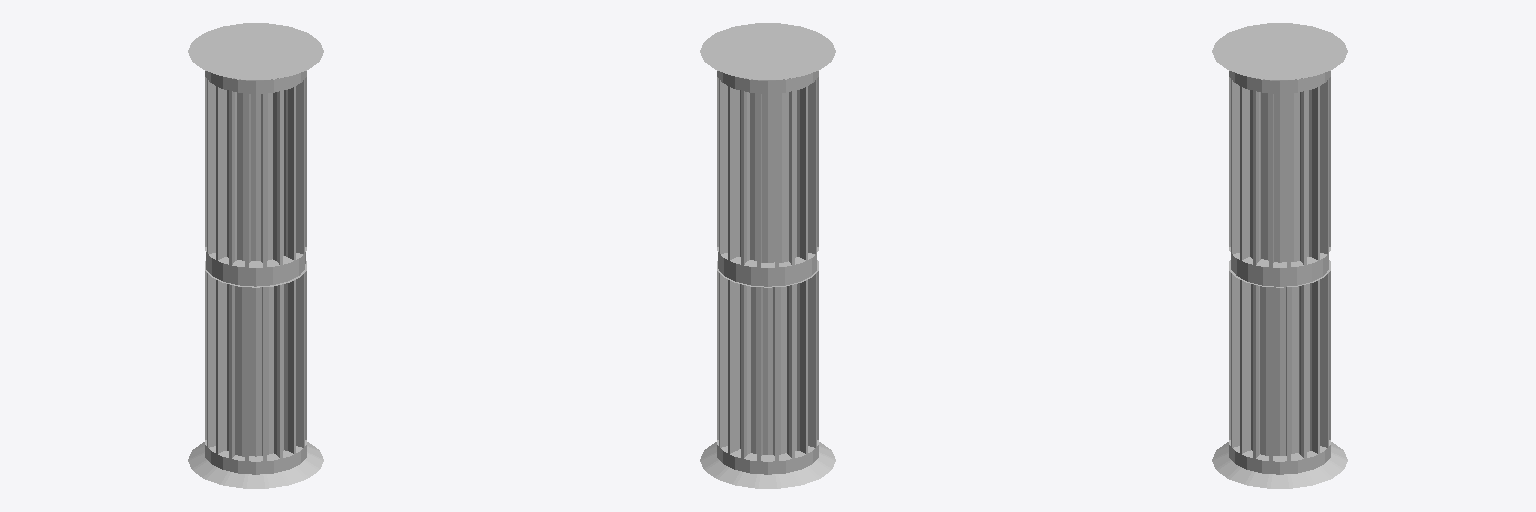
The model's file is SP_column_both.obj.
The picture shows the model from 3 angles: view 1: azimuth 30°, elevation 25°; view 2: azimuth 150°, elevation 25°; view 3: azimuth 270°, elevation 25°; orthographic projection.
Parts seen in each view (by area): view 1: Cylinder001_Cylinder001_1001, Cylinder003_Cylinder003_1001, Cylinder002_Cylinder002_1001; view 2: Cylinder001_Cylinder001_1001, Cylinder003_Cylinder003_1001, Cylinder002_Cylinder002_1001; view 3: Cylinder001_Cylinder001_1001, Cylinder003_Cylinder003_1001, Cylinder002_Cylinder002_1001.
Part boxes in pixels (left/top/right/bottom): Cylinder001_Cylinder001_1001: left=188, top=23, right=323, bottom=267; Cylinder003_Cylinder003_1001: left=188, top=261, right=323, bottom=488; Cylinder002_Cylinder002_1001: left=206, top=252, right=305, bottom=286; Cylinder001_Cylinder001_1001: left=700, top=23, right=835, bottom=267; Cylinder003_Cylinder003_1001: left=700, top=260, right=835, bottom=488; Cylinder002_Cylinder002_1001: left=718, top=252, right=816, bottom=286; Cylinder001_Cylinder001_1001: left=1212, top=23, right=1347, bottom=267; Cylinder003_Cylinder003_1001: left=1212, top=260, right=1347, bottom=488; Cylinder002_Cylinder002_1001: left=1231, top=253, right=1328, bottom=286.
Size of the model in its own units: 234 by 787 by 236.